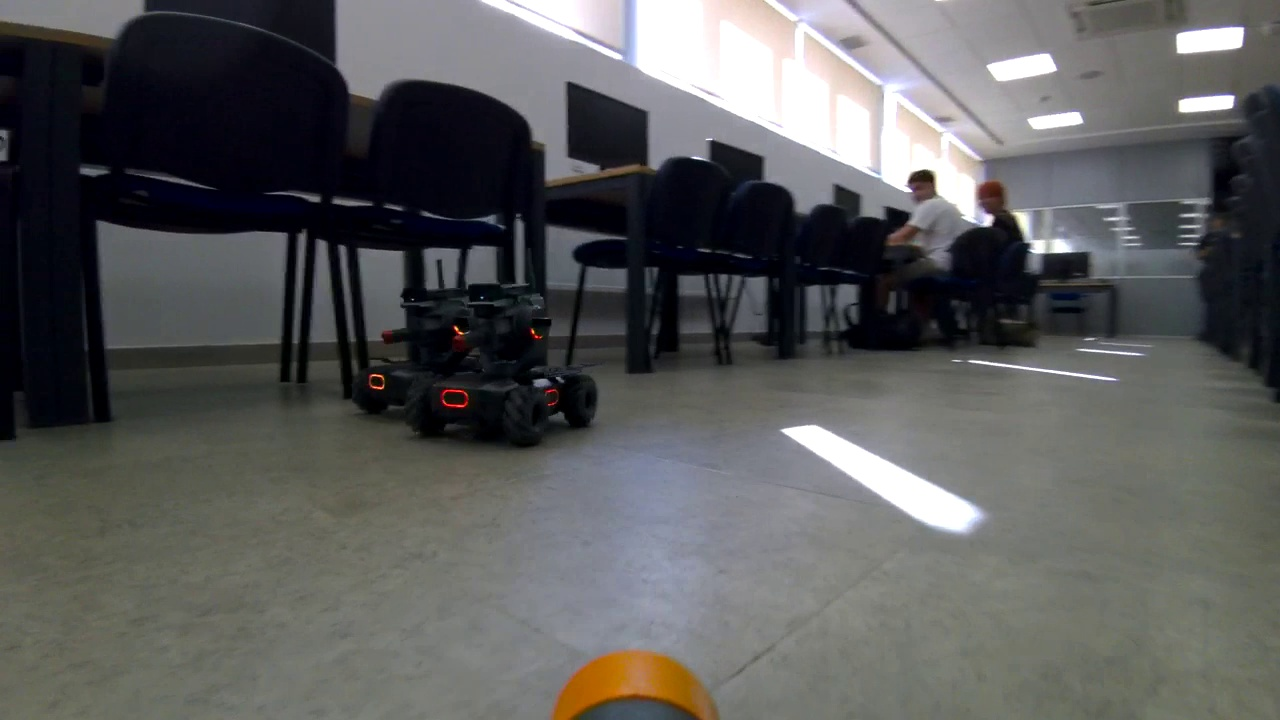robot: (429, 280, 602, 451), (354, 285, 508, 421)
